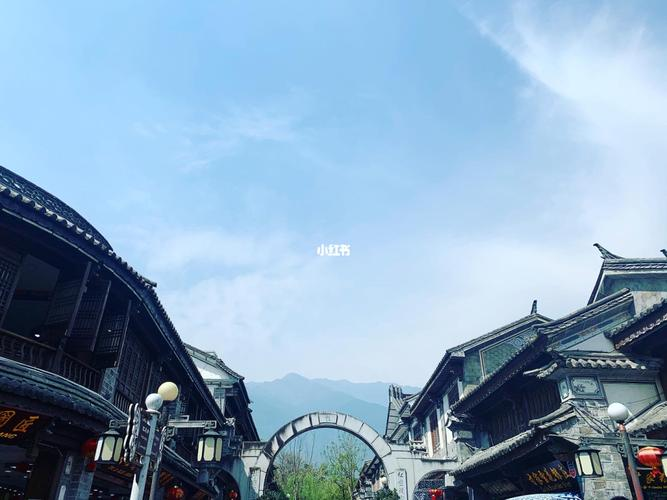buildings: (14, 216, 209, 464), (348, 304, 618, 478)
